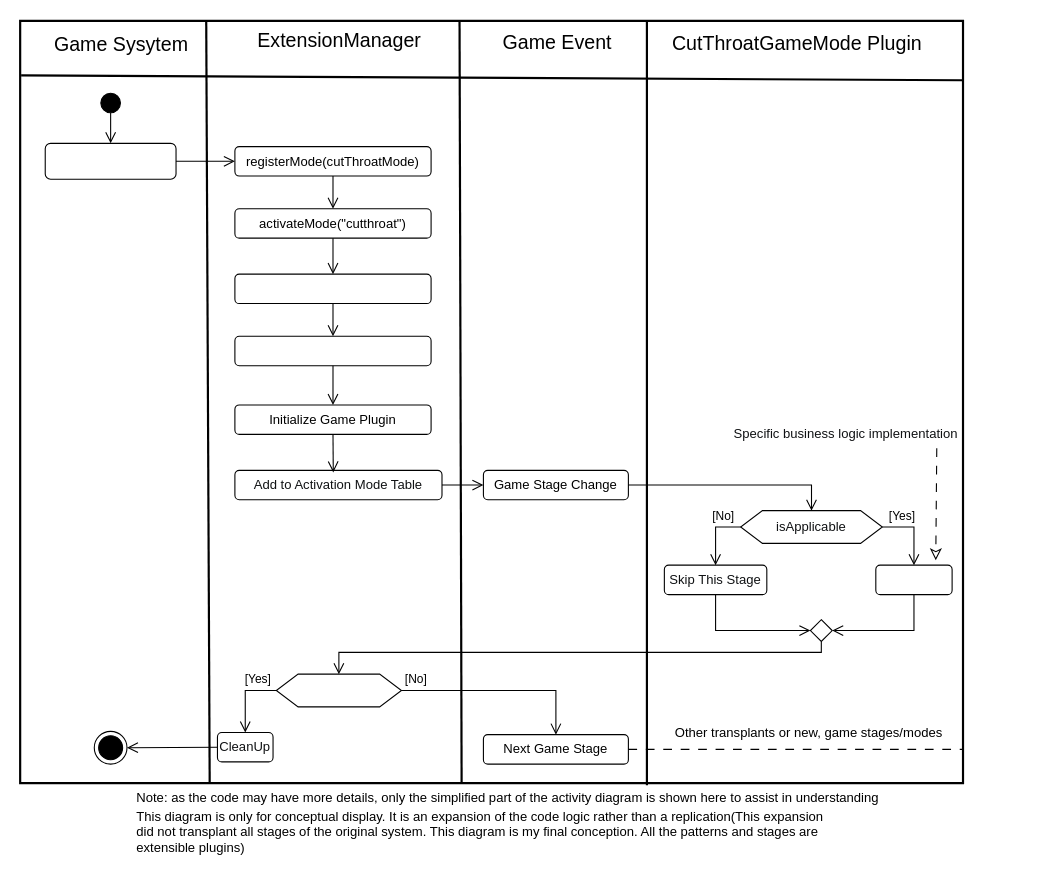
This 1057x874 diagram has some shape labels left out. The centre of each missing label's shape, as x and y in pixels:
Create ExtensionManager: the point at 110,160
Create GameModeServiceProxy: the point at 332,350
determinePermissions: the point at 332,288
execute(): the point at 913,579
isGameOver: the point at 338,690
